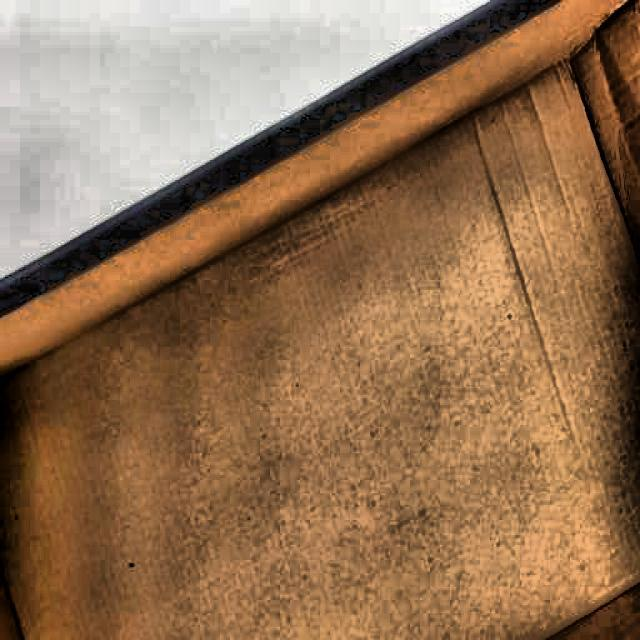cardboard: (1, 2, 640, 640)
